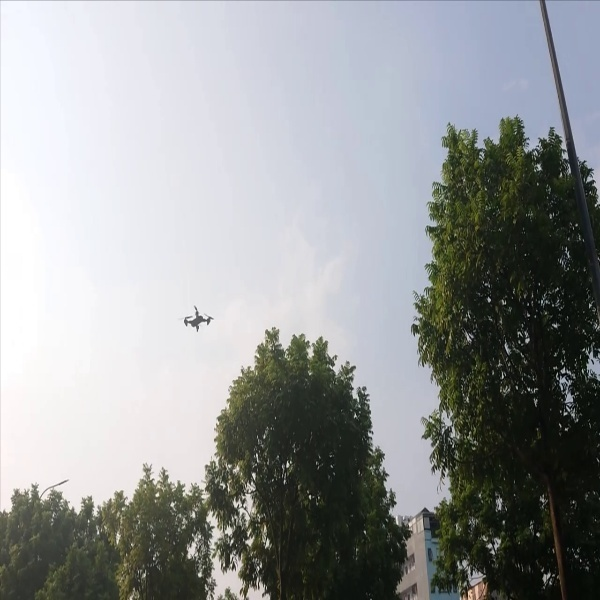drone: (169, 295, 219, 340)
